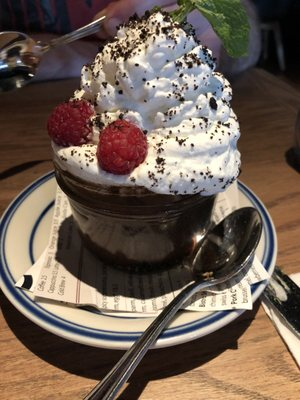burger: (81, 207, 262, 399), (0, 14, 108, 90)
salad: (80, 207, 263, 400)
